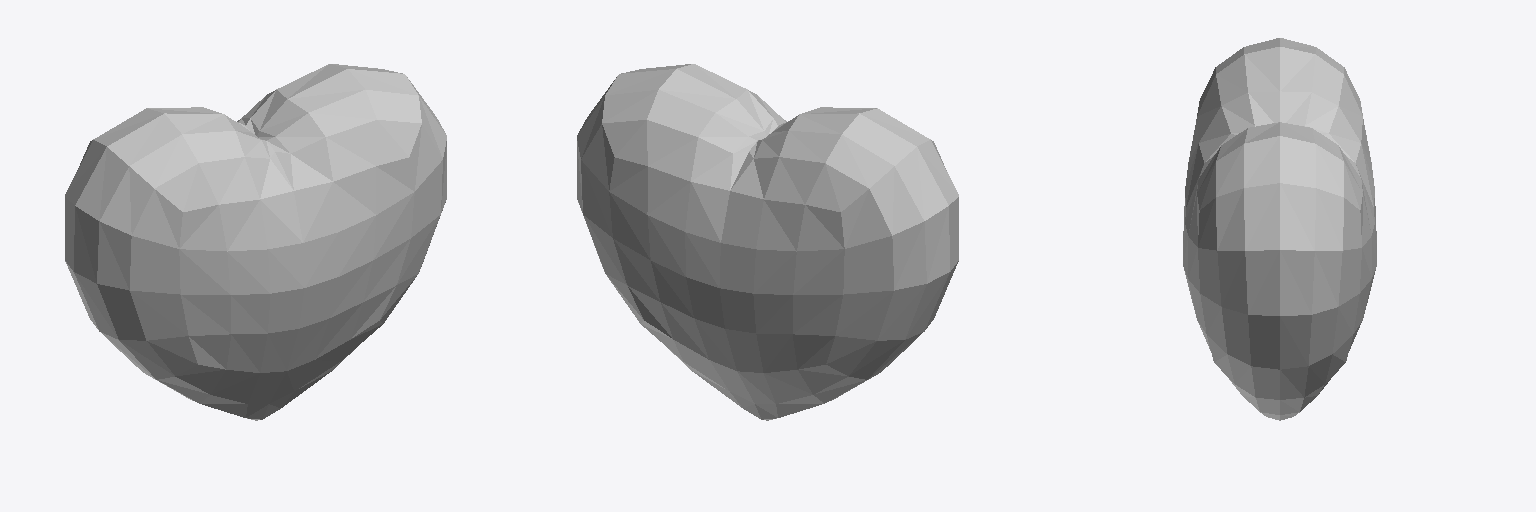
Rendered from heart_object_obj.obj.
3 renders of one model, left to right at view 1: azimuth 30°, elevation 25°; view 2: azimuth 150°, elevation 25°; view 3: azimuth 270°, elevation 25°, orthographic.
Parts seen in each view (by area): view 1: Vert; view 2: Vert; view 3: Vert.
Part boxes in pixels (bbox=[...]): Vert: bbox=[65, 64, 446, 420]; Vert: bbox=[577, 64, 958, 420]; Vert: bbox=[1183, 38, 1376, 420].
Bounding box in the file's own units: 1.41 × 1.22 × 0.6533.